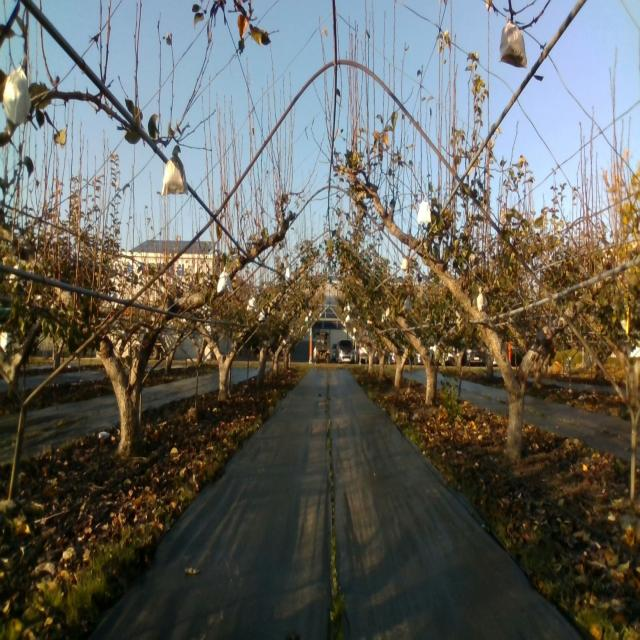pearbags: (2, 54, 32, 125), (500, 16, 527, 67), (161, 152, 188, 199), (217, 268, 233, 293), (417, 197, 431, 225), (476, 286, 488, 312)
